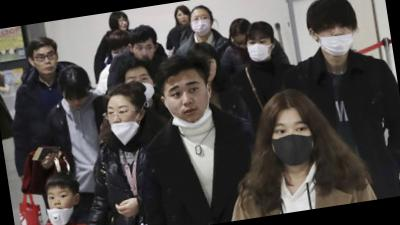mask_weared_incorrect: (164, 75, 214, 126), (107, 100, 142, 138), (46, 187, 77, 218)
with_mask: (265, 115, 319, 172), (315, 17, 358, 61), (123, 69, 159, 107), (245, 33, 275, 64), (189, 11, 214, 39)
without_mask: (31, 48, 61, 76), (131, 40, 158, 64), (64, 91, 91, 111), (232, 33, 251, 53), (176, 9, 192, 27), (117, 15, 131, 31)
